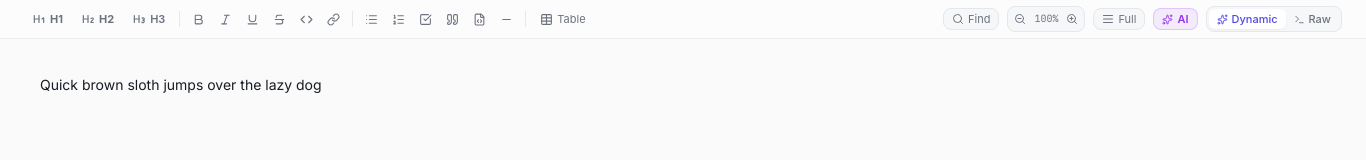
Test case: MarkdownEditor Component › can toggle in-page find bar and search content
Click the button titled "Search within page". click: (971,19)
box: [943,8,1000,30]
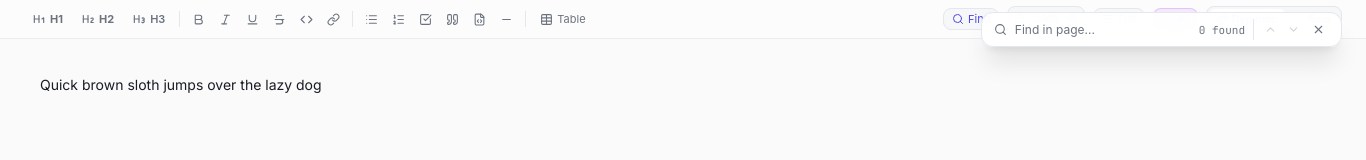
Expected: the field with placeholder "Find in page..." is shown
Type "sloth" into the field with placeholder "Find in page...". click: (1103,30)
box: [1015,22,1191,38]
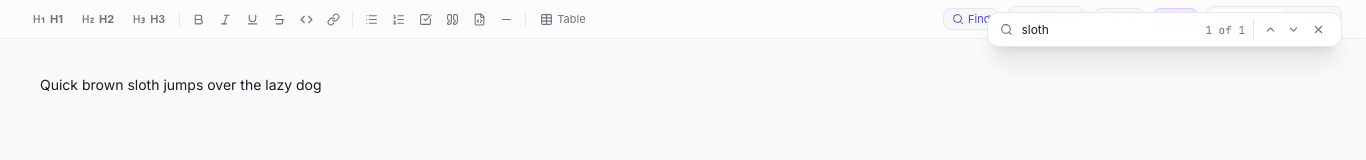
Expected: the text "1 of 1" is shown, [1205,22,1245,38]
